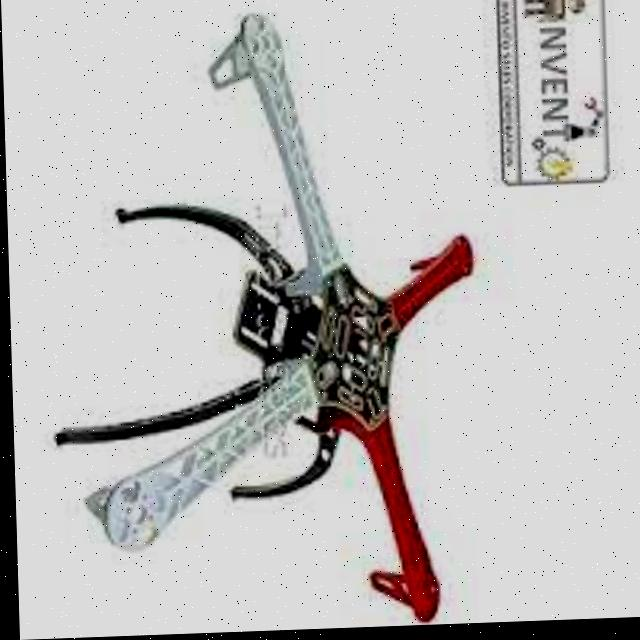drone: (73, 13, 485, 629)
